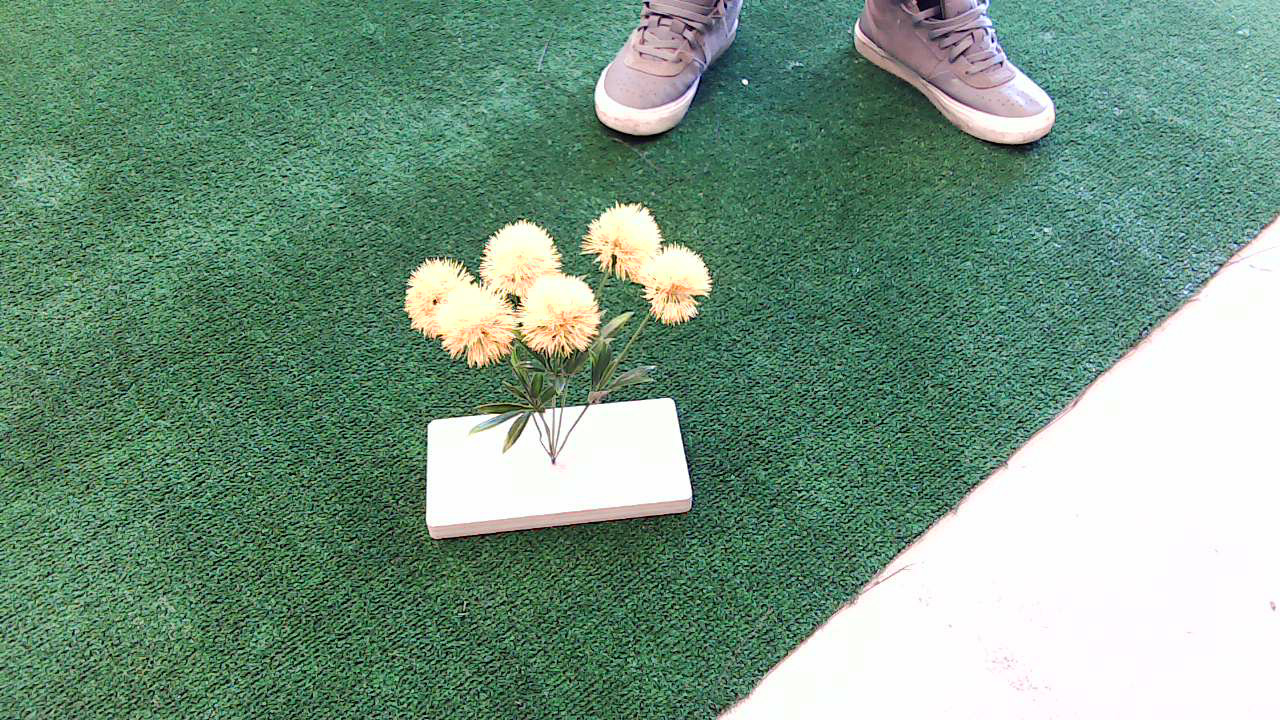dandelion: (376, 195, 740, 387)
